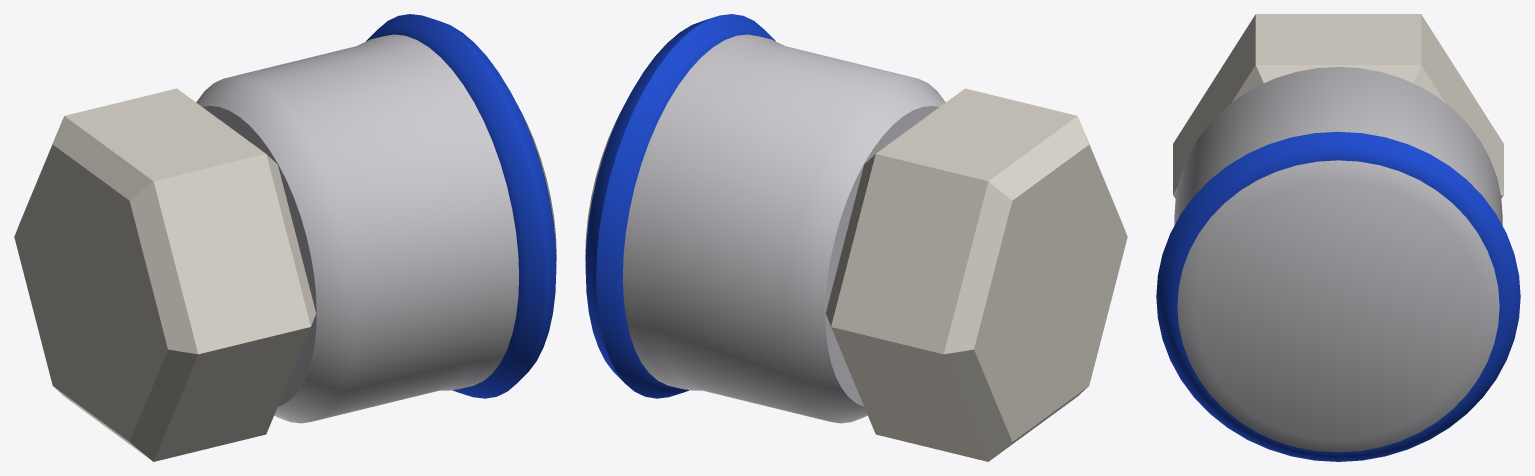
Rendered from fitting_adp_35x1_F.glb.
3 views of the same model, side by side, from view 1: azimuth 30°, elevation 25°; view 2: azimuth 150°, elevation 25°; view 3: azimuth 270°, elevation 25° (orthographic). The views are drawn at different scales.
Parts seen in each view (by area): view 1: шестигранник переходника, раструб, кольцо пресс; view 2: шестигранник переходника, раструб, кольцо пресс; view 3: раструб, кольцо пресс, шестигранник переходника.
Part boxes in pixels (x1,y1,x2,y2): шестигранник переходника: (14,88,316,461); раструб: (196,34,556,423); кольцо пресс: (366,14,556,398); шестигранник переходника: (825,88,1127,461); раструб: (585,34,945,423); кольцо пресс: (585,14,775,398); раструб: (1174,67,1502,452); кольцо пресс: (1156,131,1520,461); шестигранник переходника: (1173,14,1503,198).
Bounding box in the file's own units: 0.055 × 0.0483 × 0.0483.
